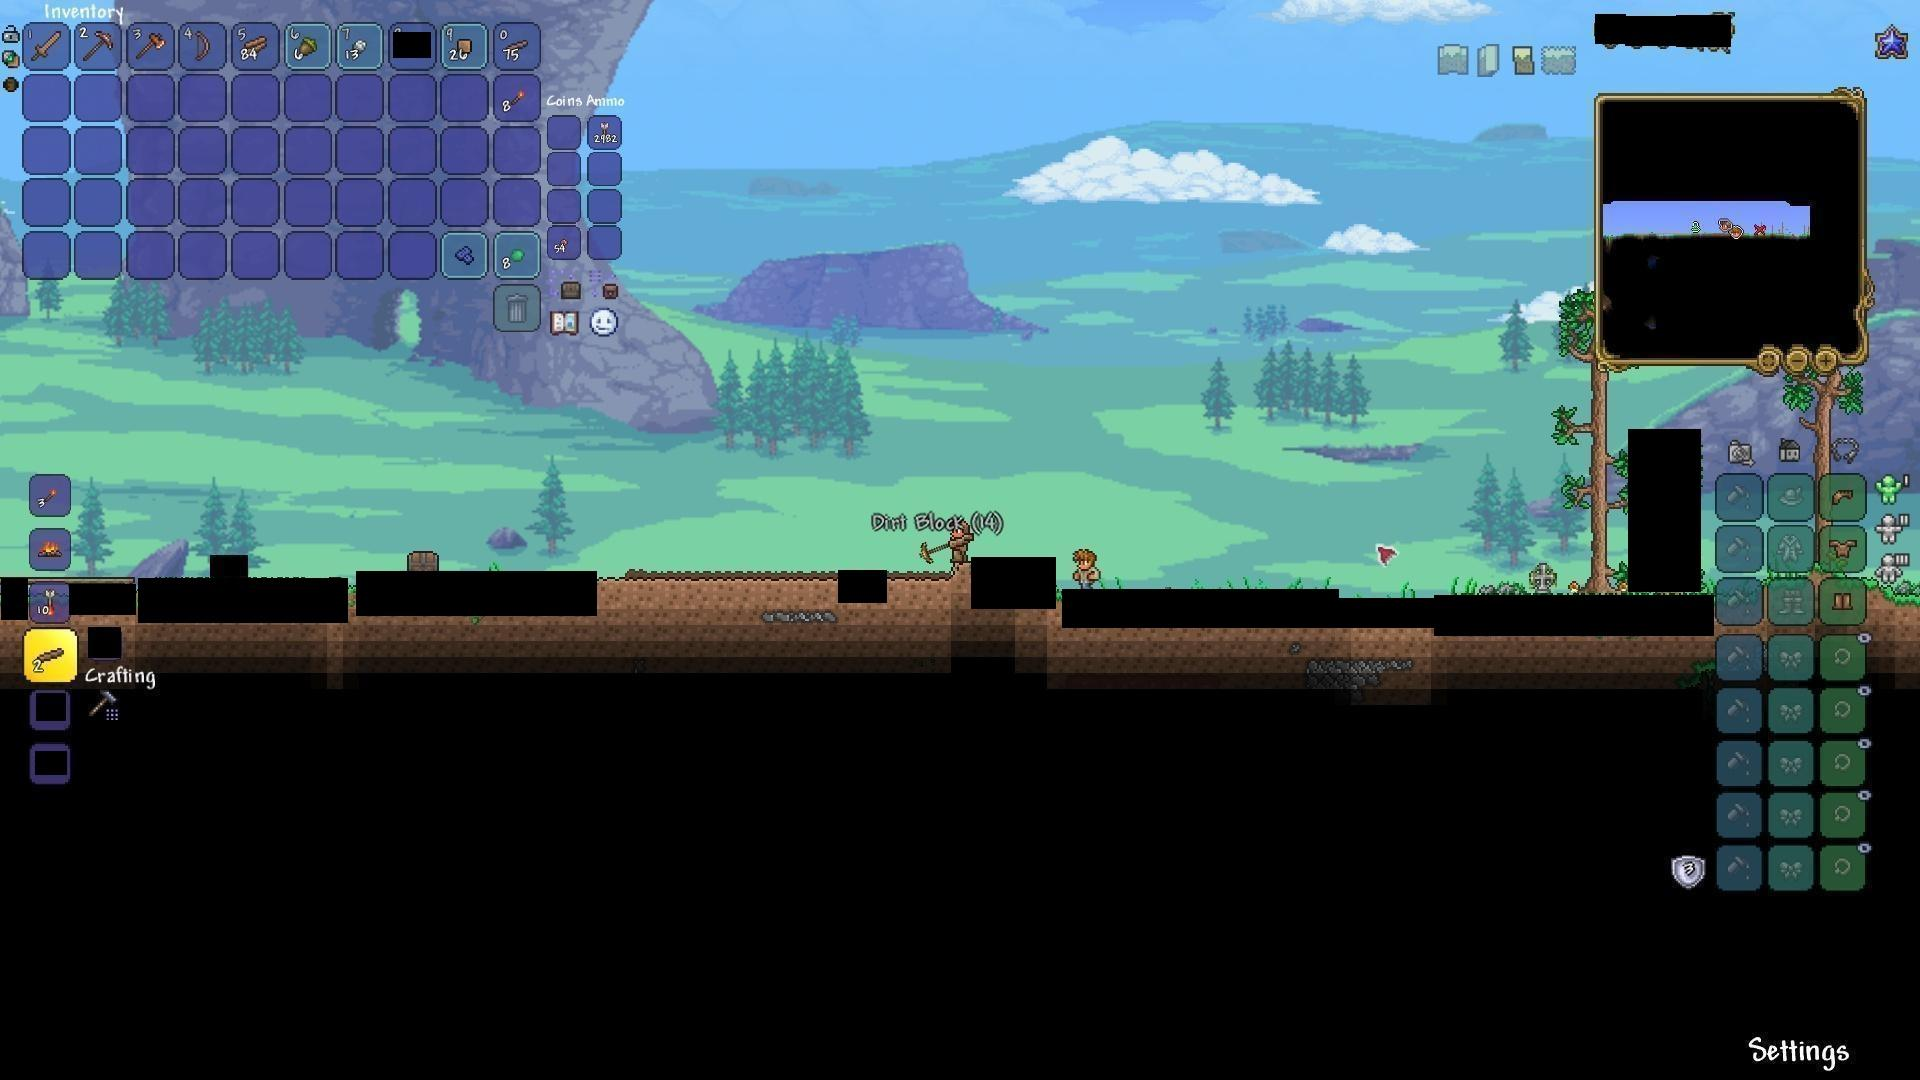breastplate: (1829, 539, 1859, 559)
dirt: (1871, 579, 1917, 624)
helmet: (1829, 485, 1858, 512)
legs: (1832, 588, 1857, 615)
tree: (1549, 273, 1618, 591)
wood: (243, 33, 272, 61)
